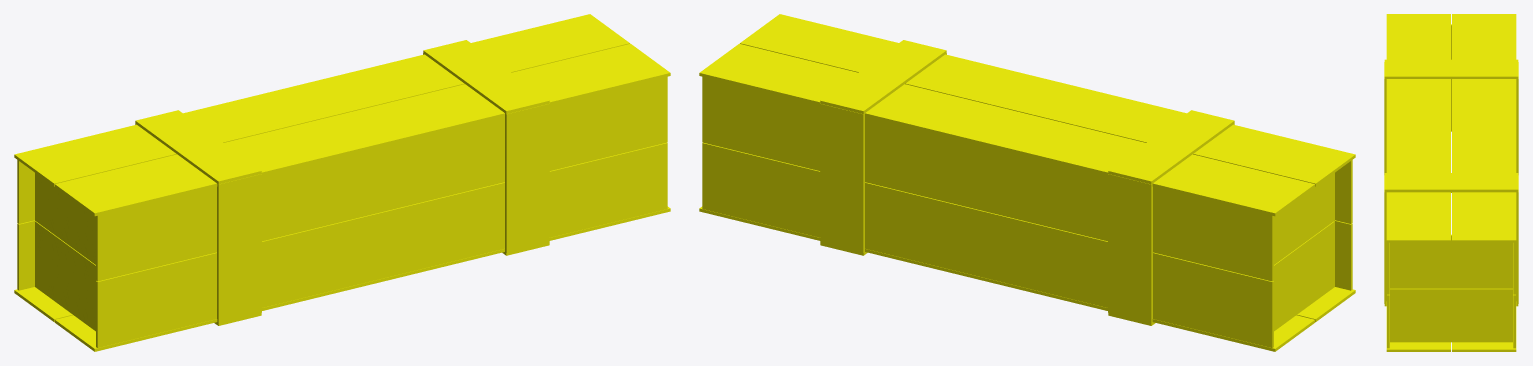
3 renders of one model, left to right at view 1: azimuth 30°, elevation 25°; view 2: azimuth 150°, elevation 25°; view 3: azimuth 270°, elevation 25°, orthographic. The views are drawn at different scales.
Parts seen in each view (by area): view 1: Crate-03_case, Crate-03_cover; view 2: Crate-03_case, Crate-03_cover; view 3: Crate-03_cover, Crate-03_case.
Part boxes in pixels (bbox=[...]): Crate-03_case: bbox=[14, 53, 670, 351]; Crate-03_cover: bbox=[14, 14, 670, 216]; Crate-03_case: bbox=[699, 53, 1355, 351]; Crate-03_cover: bbox=[699, 14, 1355, 216]; Crate-03_cover: bbox=[1384, 14, 1518, 242]; Crate-03_case: bbox=[1384, 24, 1518, 351].
Size of the model in its own units: 1 by 0.24 by 0.251.
Materials: 1 (1 with a texture image).
